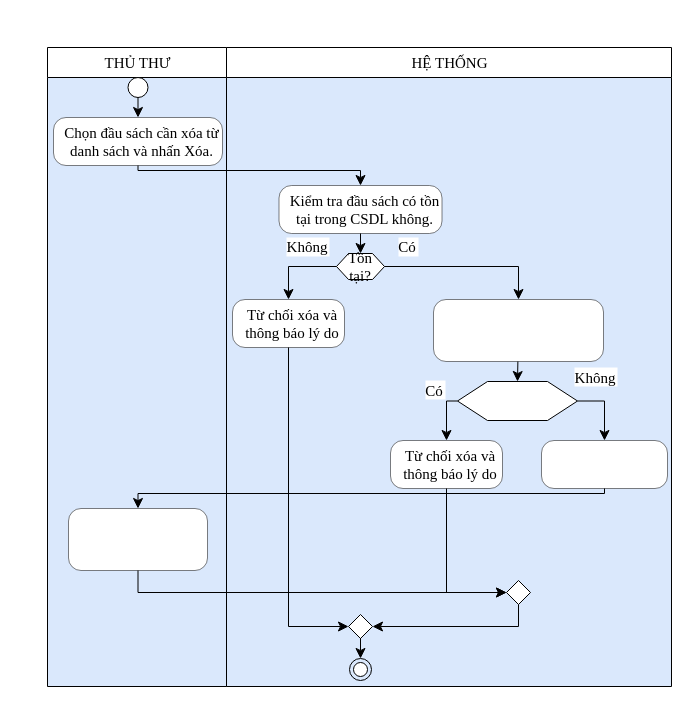
The diagram is 689 pixels wide and 704 high, and some of its shapes have lost their labels. Here are the shapes that lost their labels. From the top down, the centre of each, then its label:
At (x=518, y=330): "Kiểm tra tình trạng mượn của đầu sách (có ai đang mượn không).".
At (x=517, y=400): "Đang có người mượn?".
At (x=604, y=464): "Thực hiện xóa đầu sách khỏi CSDL".
At (x=137, y=539): "Nhận thông báo thành công và làm mới danh sách sách.".
